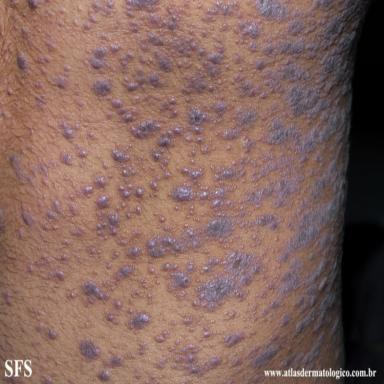lichen: (255, 0, 370, 163), (146, 149, 305, 257), (279, 143, 347, 261), (124, 0, 199, 73), (193, 251, 262, 311), (259, 258, 325, 318), (155, 339, 221, 376), (314, 246, 342, 332), (247, 333, 281, 368), (203, 35, 228, 78), (223, 108, 257, 139), (125, 66, 165, 91), (96, 195, 120, 236), (295, 334, 324, 366), (181, 67, 213, 95), (83, 1, 113, 30), (234, 20, 260, 52), (157, 124, 192, 147), (234, 74, 266, 99), (203, 1, 242, 21), (309, 231, 335, 260), (125, 307, 151, 335), (215, 161, 245, 185), (81, 281, 109, 306), (10, 154, 33, 184), (188, 108, 212, 134), (37, 157, 57, 187), (295, 307, 316, 335), (91, 45, 110, 74), (111, 262, 137, 283), (131, 120, 161, 138), (164, 272, 191, 291), (111, 99, 133, 122), (79, 339, 101, 360), (198, 325, 222, 343), (150, 149, 169, 170), (223, 331, 245, 348), (118, 185, 133, 209), (181, 167, 203, 183), (161, 98, 178, 117), (21, 203, 35, 226), (36, 324, 57, 339), (46, 200, 61, 221), (92, 79, 111, 95), (119, 52, 133, 73), (27, 306, 43, 322), (243, 304, 257, 322), (215, 78, 226, 100), (143, 92, 160, 106), (104, 355, 123, 367), (61, 121, 73, 140), (21, 26, 33, 45), (281, 353, 296, 368), (211, 101, 227, 115), (113, 150, 130, 163), (127, 246, 144, 258), (243, 136, 255, 153), (35, 254, 50, 267), (17, 53, 29, 69), (36, 93, 47, 110), (105, 312, 119, 325), (121, 165, 136, 177), (137, 339, 148, 355), (313, 152, 324, 168), (60, 152, 73, 165), (155, 331, 169, 343), (145, 373, 160, 384), (86, 244, 101, 255), (234, 50, 245, 65), (200, 144, 216, 154), (134, 277, 148, 288), (331, 317, 339, 336), (55, 77, 67, 89), (185, 262, 198, 273), (177, 60, 192, 69), (98, 370, 111, 380), (71, 227, 84, 237), (131, 92, 141, 105), (162, 263, 178, 271), (46, 38, 55, 52), (42, 373, 53, 384), (103, 280, 114, 291), (225, 311, 237, 321), (2, 291, 11, 304), (8, 0, 21, 9), (281, 313, 289, 327), (269, 102, 277, 116), (175, 290, 186, 300), (183, 316, 194, 326), (95, 177, 106, 187), (83, 186, 93, 197), (246, 329, 257, 339), (109, 43, 121, 52), (37, 55, 49, 64), (197, 47, 206, 59), (252, 235, 261, 247), (114, 299, 124, 309), (55, 270, 65, 280), (118, 235, 127, 246), (28, 0, 39, 9), (85, 318, 94, 329), (57, 253, 69, 261), (63, 65, 71, 77), (232, 358, 242, 367), (135, 187, 144, 197), (256, 60, 265, 70), (201, 27, 210, 37), (132, 290, 143, 298), (69, 204, 77, 215), (259, 250, 267, 261), (212, 117, 223, 125), (30, 164, 37, 176), (132, 228, 141, 237), (149, 181, 158, 190), (213, 129, 222, 138), (77, 149, 87, 157), (1, 110, 11, 118), (125, 352, 136, 359), (247, 11, 258, 18), (66, 291, 75, 299), (18, 228, 24, 240), (220, 23, 229, 31), (76, 189, 84, 198), (136, 155, 143, 165), (309, 169, 319, 176), (114, 19, 121, 29), (37, 201, 43, 212), (59, 6, 67, 14), (101, 33, 109, 41), (41, 223, 49, 231), (145, 57, 153, 65), (163, 172, 172, 179), (35, 80, 42, 89), (27, 264, 34, 273), (88, 131, 95, 140), (61, 239, 70, 246), (72, 18, 79, 27), (271, 247, 281, 253), (58, 19, 65, 27), (64, 195, 75, 200), (254, 374, 260, 383), (136, 206, 142, 215), (188, 205, 194, 214), (135, 372, 142, 379), (196, 136, 203, 143), (150, 191, 157, 198), (154, 174, 161, 181), (169, 321, 176, 328), (126, 308, 134, 314), (127, 297, 133, 305), (113, 251, 119, 259), (159, 215, 165, 223), (74, 123, 80, 131), (149, 267, 155, 274), (189, 150, 196, 156), (163, 225, 169, 232), (102, 162, 108, 169), (7, 88, 13, 95), (49, 271, 55, 278), (107, 111, 113, 118), (78, 100, 84, 107), (197, 2, 203, 9), (193, 216, 200, 222), (29, 128, 34, 136), (210, 164, 215, 172), (127, 209, 131, 218), (204, 247, 210, 253), (108, 172, 113, 179), (167, 191, 172, 198), (262, 267, 269, 272), (147, 293, 152, 299), (261, 115, 267, 120), (53, 225, 58, 231), (77, 5, 82, 11), (227, 145, 232, 151), (239, 66, 244, 72), (150, 164, 155, 170), (93, 269, 97, 276), (261, 275, 268, 279), (223, 245, 230, 249), (189, 327, 194, 332), (41, 69, 46, 74), (186, 97, 191, 102), (235, 39, 240, 44), (107, 262, 111, 268), (226, 63, 229, 70), (156, 280, 160, 285), (224, 311, 228, 315), (191, 160, 195, 164), (175, 206, 179, 210), (242, 179, 246, 183)
